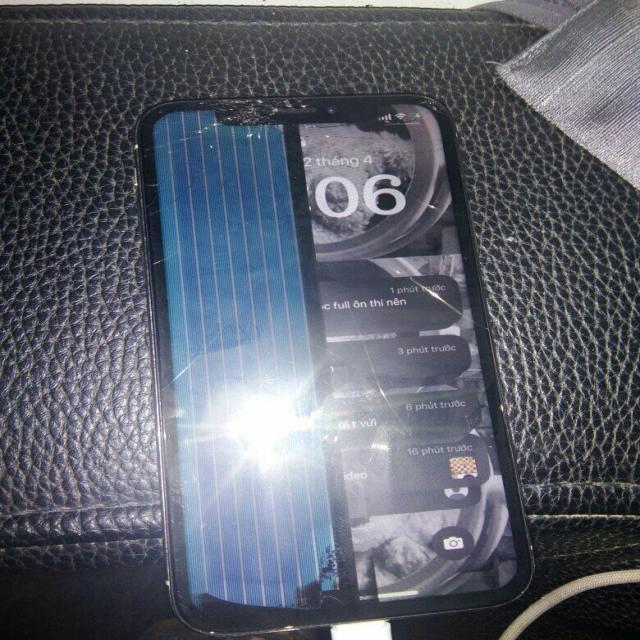gen_12_13: (126, 88, 538, 637)
physical_damage: (149, 98, 344, 151), (412, 193, 448, 212), (172, 154, 204, 172), (383, 398, 407, 421), (366, 357, 386, 383), (198, 162, 219, 181), (149, 252, 181, 263), (426, 288, 449, 303), (174, 184, 192, 203), (144, 175, 168, 189), (144, 203, 170, 215), (352, 312, 367, 332), (374, 386, 392, 401), (170, 364, 189, 378), (388, 263, 407, 275), (359, 336, 373, 352), (416, 279, 430, 287), (191, 351, 199, 365)
scratch: (419, 95, 448, 112), (271, 624, 301, 633)
screen_defect: (170, 437, 348, 623), (156, 268, 324, 436), (146, 105, 302, 266)
